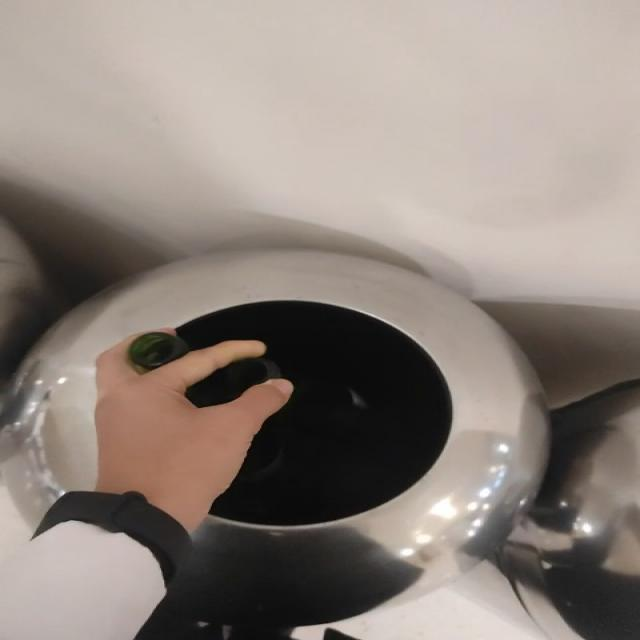Glass: (237, 379, 367, 482), (185, 358, 283, 408), (128, 332, 189, 369)
